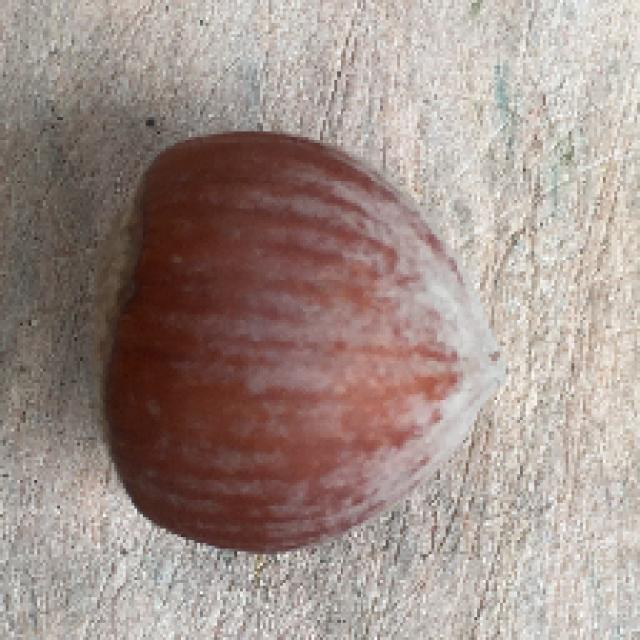qualityHazelnut: (89, 128, 508, 557)
